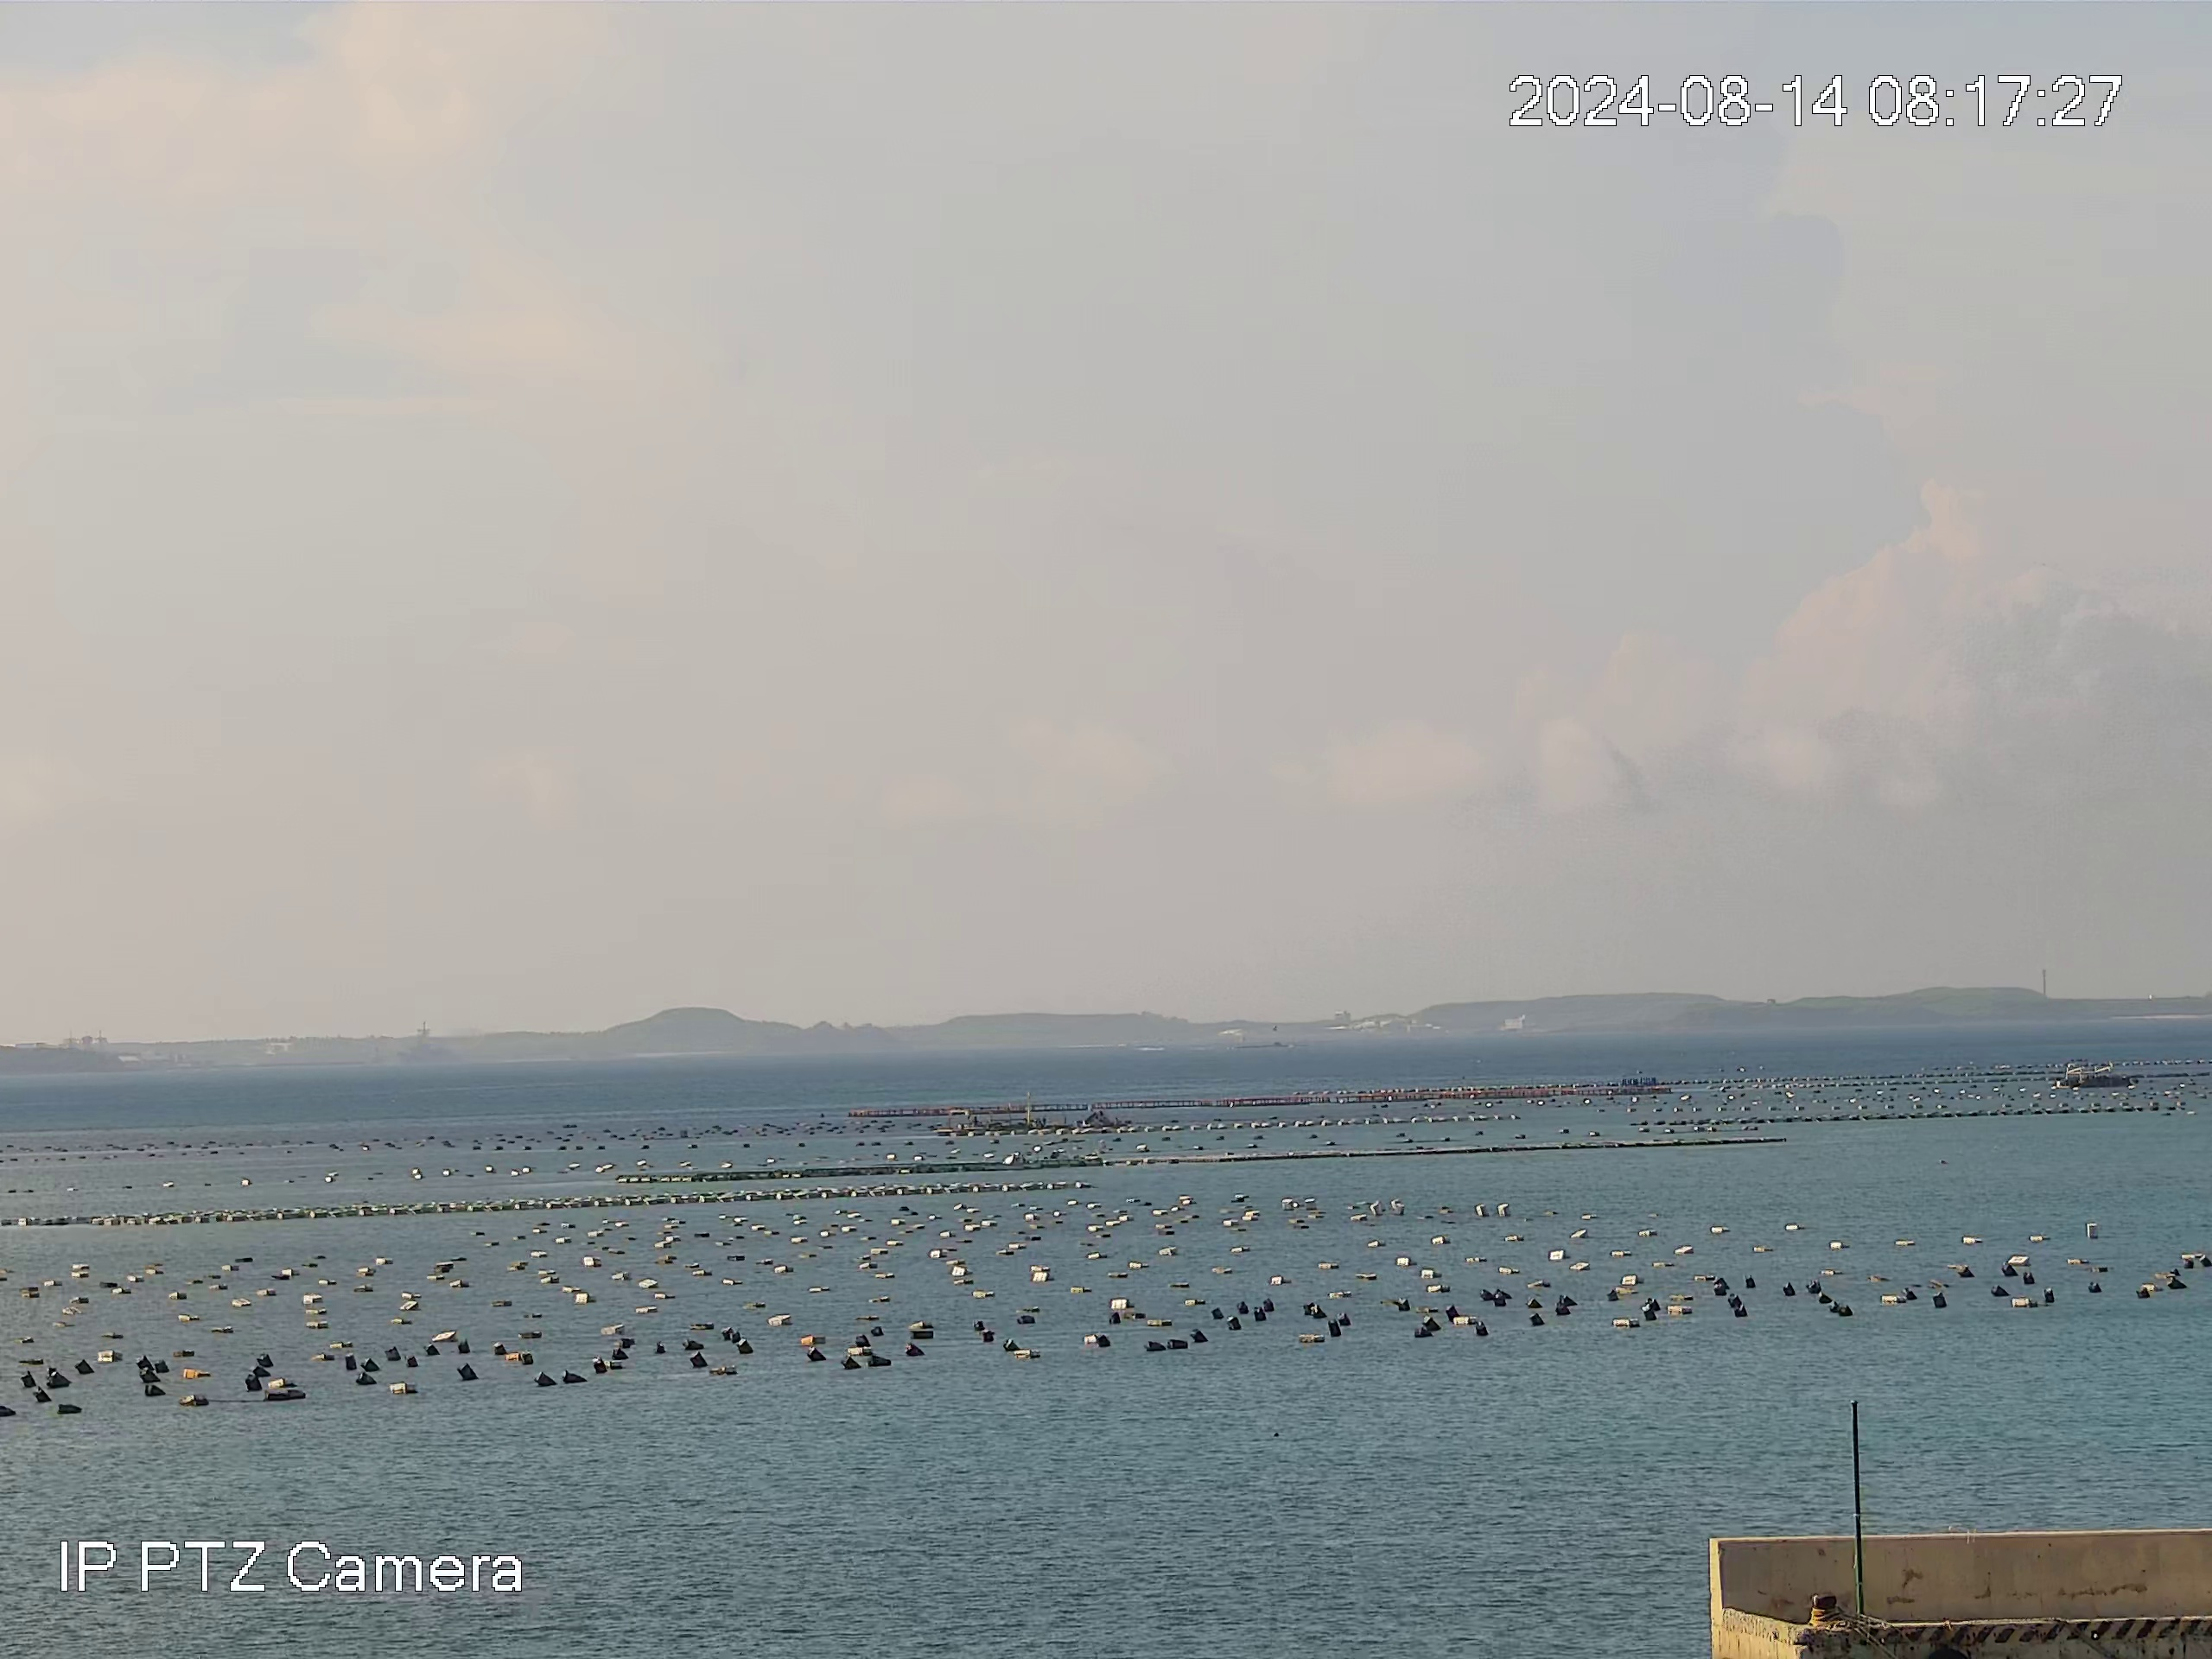boat: (2059, 1063, 2139, 1091)
